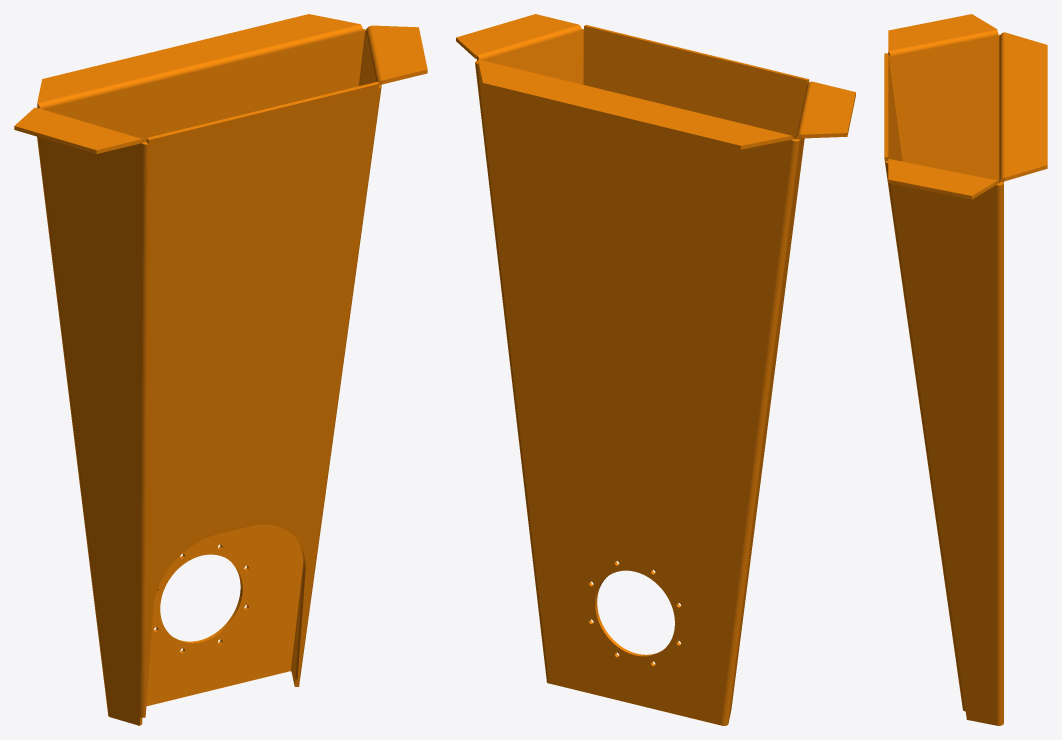
File: Legs_v1-Leg_F-L.dae
The picture shows the model from 3 angles, left to right: view 1: azimuth 30°, elevation 25°; view 2: azimuth 150°, elevation 25°; view 3: azimuth 270°, elevation 25°; orthographic projection. The views are drawn at different scales.
Visible parts, largest first — view 1: 5d3793c1c0e79015cfd1d221; view 2: 5d3793c1c0e79015cfd1d221; view 3: 5d3793c1c0e79015cfd1d221.
Part boxes in pixels (x1,y1,x2,y2): 5d3793c1c0e79015cfd1d221: (14,14,427,725); 5d3793c1c0e79015cfd1d221: (456,14,855,725); 5d3793c1c0e79015cfd1d221: (884,14,1047,725).
Size of the model in its own units: 0.3428 by 0.1302 by 0.5084.
